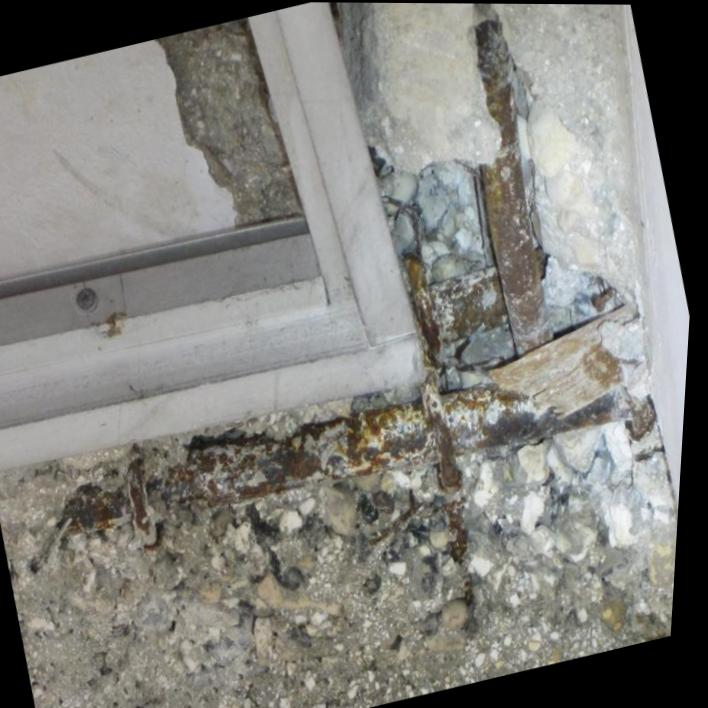damage: (34, 2, 676, 632)
